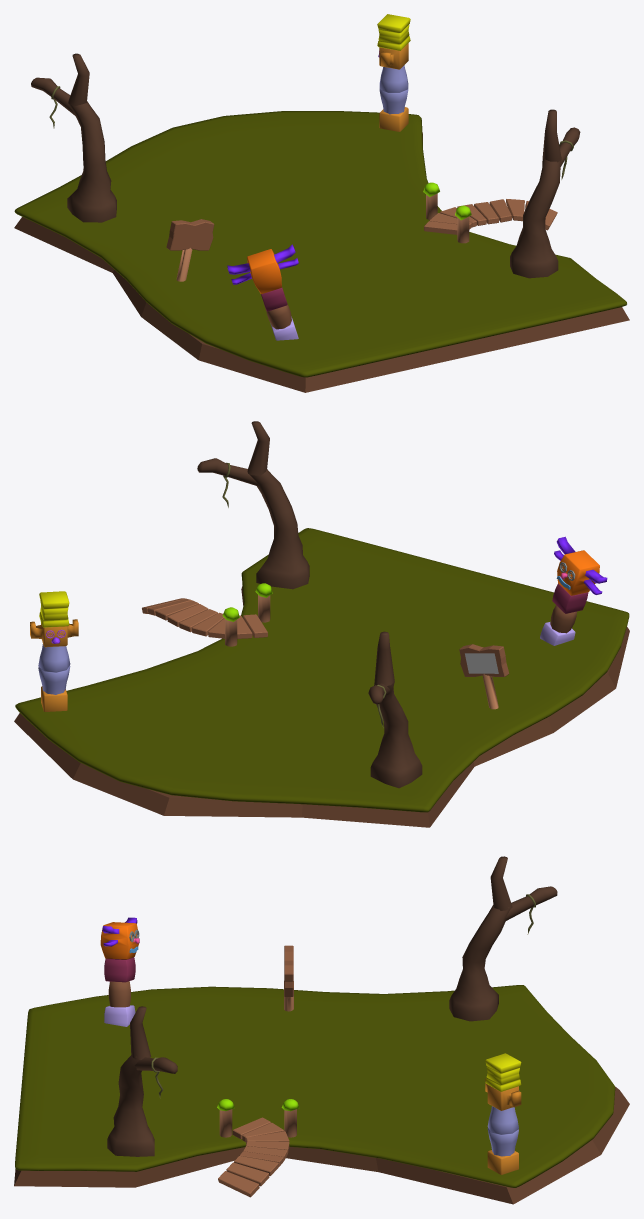
The model's file is enviroment.fbx.
3 views of the same model, one above another, from view 1: azimuth 30°, elevation 25°; view 2: azimuth 150°, elevation 25°; view 3: azimuth 270°, elevation 25° (orthographic). The views are drawn at different scales.
Parts seen in each view (by area): view 1: env_piece; view 2: env_piece; view 3: env_piece.
Boxes of the visible parts, x1=… form: env_piece: x1=14, y1=14, x2=629, y2=392; env_piece: x1=14, y1=421, x2=629, y2=827; env_piece: x1=14, y1=856, x2=629, y2=1204.
Size of the model in its own units: 1465 by 569 by 1860.
